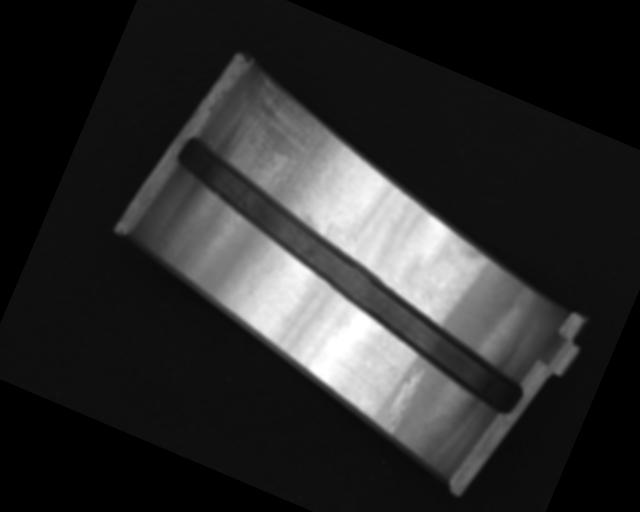gap: (135, 134, 565, 418)
nick: (378, 361, 427, 441)
scratch: (204, 69, 364, 230)
